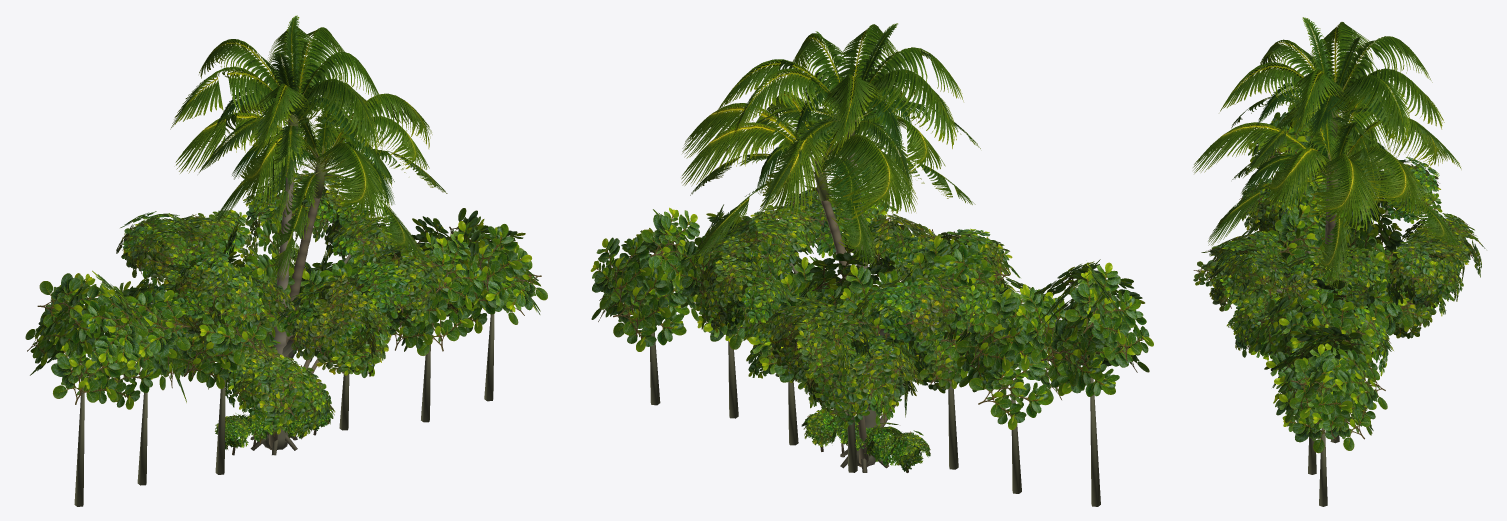
Rendered from vegetation-v1.glb.
3 views of the same model, side by side, from view 1: azimuth 30°, elevation 25°; view 2: azimuth 150°, elevation 25°; view 3: azimuth 270°, elevation 25° (orthographic). The views are drawn at different scales.
Parts seen in each view (by area): view 1: TreeBand_LeafAtlas, HammockTree_LeafAtlas, PalmCoconut_LeafAtlas, PalmRoyal_LeafAtlas, SeaGrapeTree_LeafAtlas, TreeBand_FloridaBark, HedgeCluster_LeafAtlas, PalmRoyal_FloridaBark, PalmCoconut_FloridaBark, HammockTree_FloridaBark; view 2: TreeBand_LeafAtlas, HammockTree_LeafAtlas, PalmCoconut_LeafAtlas, PalmRoyal_LeafAtlas, SeaGrapeTree_LeafAtlas, TreeBand_FloridaBark, HedgeCluster_LeafAtlas, HammockTree_FloridaBark; view 3: TreeBand_LeafAtlas, HammockTree_LeafAtlas, PalmCoconut_LeafAtlas, PalmRoyal_LeafAtlas, SeaGrapeTree_LeafAtlas, TreeBand_FloridaBark.
Boxes of the visible parts, x1=… form: TreeBand_LeafAtlas: x1=25, y1=208, x2=547, y2=409; HammockTree_LeafAtlas: x1=116, y1=170, x2=444, y2=358; PalmCoconut_LeafAtlas: x1=175, y1=82, x2=447, y2=280; PalmRoyal_LeafAtlas: x1=170, y1=15, x2=392, y2=228; SeaGrapeTree_LeafAtlas: x1=192, y1=265, x2=391, y2=436; TreeBand_FloridaBark: x1=74, y1=314, x2=494, y2=506; HedgeCluster_LeafAtlas: x1=215, y1=405, x2=335, y2=449; PalmRoyal_FloridaBark: x1=264, y1=158, x2=294, y2=448; PalmCoconut_FloridaBark: x1=285, y1=185, x2=324, y2=357; HammockTree_FloridaBark: x1=168, y1=232, x2=374, y2=455; TreeBand_LeafAtlas: x1=590, y1=204, x2=1153, y2=429; HammockTree_LeafAtlas: x1=684, y1=185, x2=1020, y2=382; PalmCoconut_LeafAtlas: x1=681, y1=87, x2=975, y2=267; PalmRoyal_LeafAtlas: x1=717, y1=23, x2=980, y2=218; SeaGrapeTree_LeafAtlas: x1=744, y1=275, x2=970, y2=428; TreeBand_FloridaBark: x1=650, y1=332, x2=1100, y2=506; HedgeCluster_LeafAtlas: x1=801, y1=409, x2=930, y2=472; HammockTree_FloridaBark: x1=773, y1=263, x2=896, y2=472; TreeBand_LeafAtlas: x1=1242, y1=102, x2=1413, y2=453; HammockTree_LeafAtlas: x1=1193, y1=157, x2=1485, y2=311; PalmCoconut_LeafAtlas: x1=1193, y1=93, x2=1462, y2=288; PalmRoyal_LeafAtlas: x1=1220, y1=17, x2=1461, y2=204; SeaGrapeTree_LeafAtlas: x1=1226, y1=246, x2=1454, y2=376; TreeBand_FloridaBark: x1=1308, y1=428, x2=1339, y2=506.
Bounding box in the file's own units: 25.99 × 19.37 × 13.71.
Materials: 3 (1 with a texture image).
